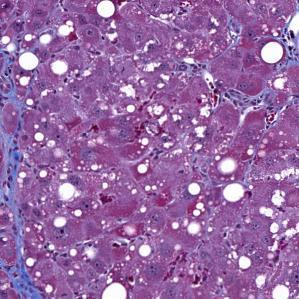fibrosis: (4, 73, 36, 299)
